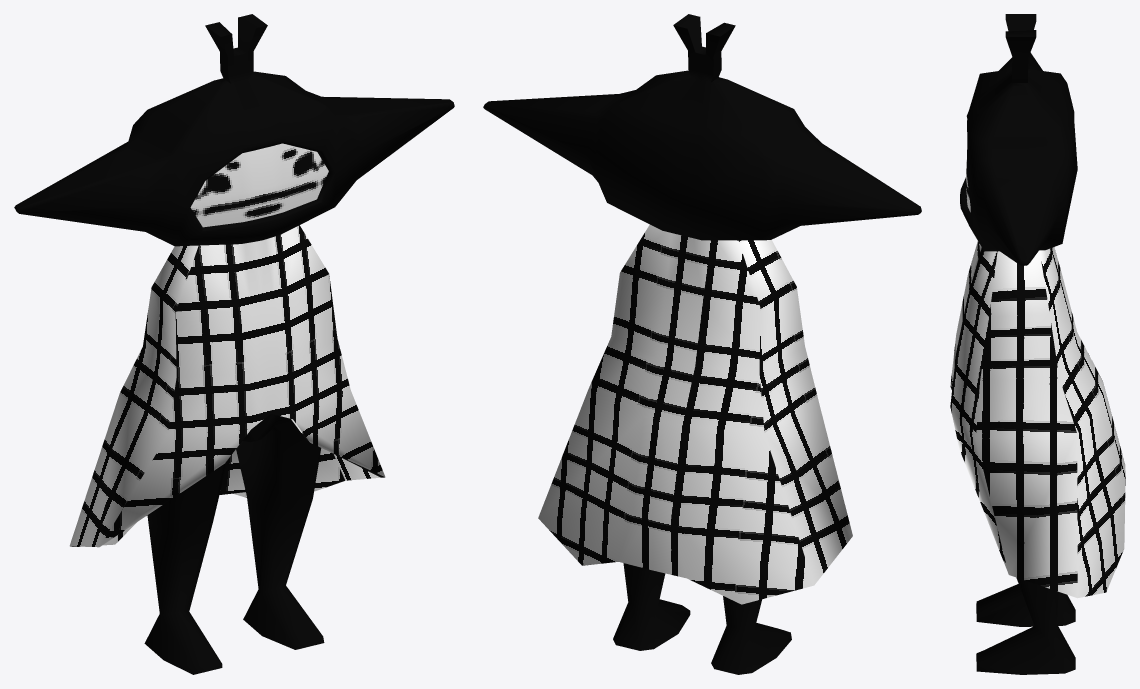
The picture shows the model from 3 angles, left to right: view 1: azimuth 30°, elevation 25°; view 2: azimuth 150°, elevation 25°; view 3: azimuth 270°, elevation 25°; orthographic projection.
Visible parts, largest first — view 1: Doobi; view 2: Doobi; view 3: Doobi.
Boxes of the visible parts, bbox=[...] form: Doobi: bbox=[14, 14, 454, 674]; Doobi: bbox=[483, 14, 921, 674]; Doobi: bbox=[950, 14, 1125, 674].
Bounding box in the file's own units: 398 × 538 × 139.
